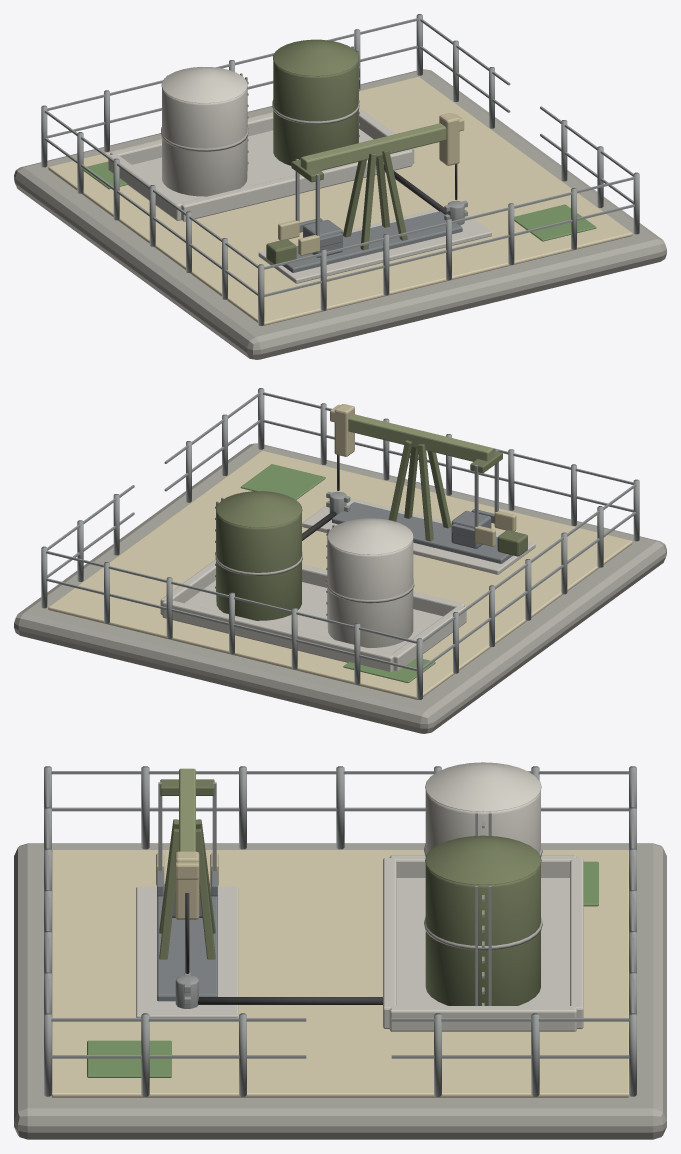
File: oilwell_3.glb
The picture shows the model from 3 angles, top to bottom: view 1: azimuth 30°, elevation 25°; view 2: azimuth 150°, elevation 25°; view 3: azimuth 270°, elevation 25°; orthographic projection. The views are drawn at different scales.
Parts seen in each view (by area): view 1: Cube.001, Cube, Cylinder.002, Cylinder.004, Cube.026, Cube.004, Cube.005, Cube.010, Cone, Cone.001, Cube.024, Cube.003 (+16 smaller); view 2: Cube.001, Cube, Cylinder.002, Cylinder.004, Cube.025, Cube.024, Cube.010, Cone, Cone.001, Cube.005, Cube.004, Cube.003 (+17 smaller); view 3: Cube.001, Cube, Cylinder.004, Cube.024, Cube.004, Cone, Cone.001, Cube.027, Cylinder.002, Cube.005, Cube.003, Cube.026 (+28 smaller).
Boxes of the visible parts, <box> form: Cube.001: <box>48,76,632,325</box>; Cube: <box>14,69,666,359</box>; Cylinder.002: <box>162,88,247,196</box>; Cylinder.004: <box>273,61,358,165</box>; Cube.026: <box>181,149,412,221</box>; Cube.004: <box>258,209,491,283</box>; Cube.005: <box>282,211,462,272</box>; Cube.010: <box>300,123,446,170</box>; Cone: <box>161,66,247,103</box>; Cone.001: <box>273,39,358,76</box>; Cube.024: <box>132,129,373,202</box>; Cube.003: <box>514,204,596,241</box>; Cube.001: <box>48,450,632,699</box>; Cube: <box>14,443,666,733</box>; Cylinder.002: <box>327,539,413,647</box>; Cylinder.004: <box>216,512,301,620</box>; Cube.025: <box>162,600,393,671</box>; Cube.024: <box>185,580,442,653</box>; Cube.010: <box>348,414,493,461</box>; Cone: <box>327,518,413,554</box>; Cone.001: <box>216,491,302,527</box>; Cube.005: <box>332,502,512,563</box>; Cube.004: <box>302,498,535,574</box>; Cube.003: <box>240,464,325,499</box>; Cube.001: <box>51,850,629,1097</box>; Cube: <box>14,843,666,1139</box>; Cylinder.004: <box>425,864,540,1005</box>; Cube.024: <box>396,878,569,1005</box>; Cube.004: <box>136,886,238,1017</box>; Cone: <box>425,762,541,811</box>; Cone.001: <box>425,835,541,884</box>; Cube.027: <box>389,1006,576,1031</box>; Cylinder.002: <box>425,790,540,853</box>; Cube.005: <box>157,883,217,1001</box>; Cube.003: <box>87,1040,171,1077</box>; Cube.026: <box>383,858,396,1028</box>.
Bounding box in the file's own units: 1.92 × 0.605 × 1.92.
